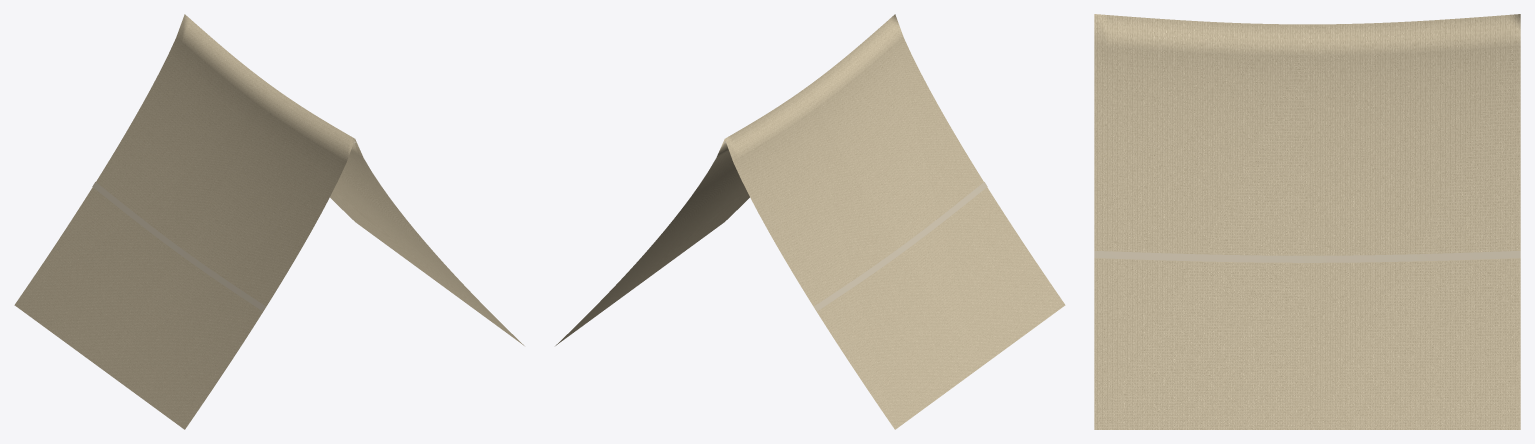
Rendered from camp_canopy.glb.
3 views of the same model, side by side, from view 1: azimuth 30°, elevation 25°; view 2: azimuth 150°, elevation 25°; view 3: azimuth 270°, elevation 25° (orthographic). The views are drawn at different scales.
Size of the model in its own units: 3 by 2.1 by 2.6.
Materials: 2 (1 with a texture image).
